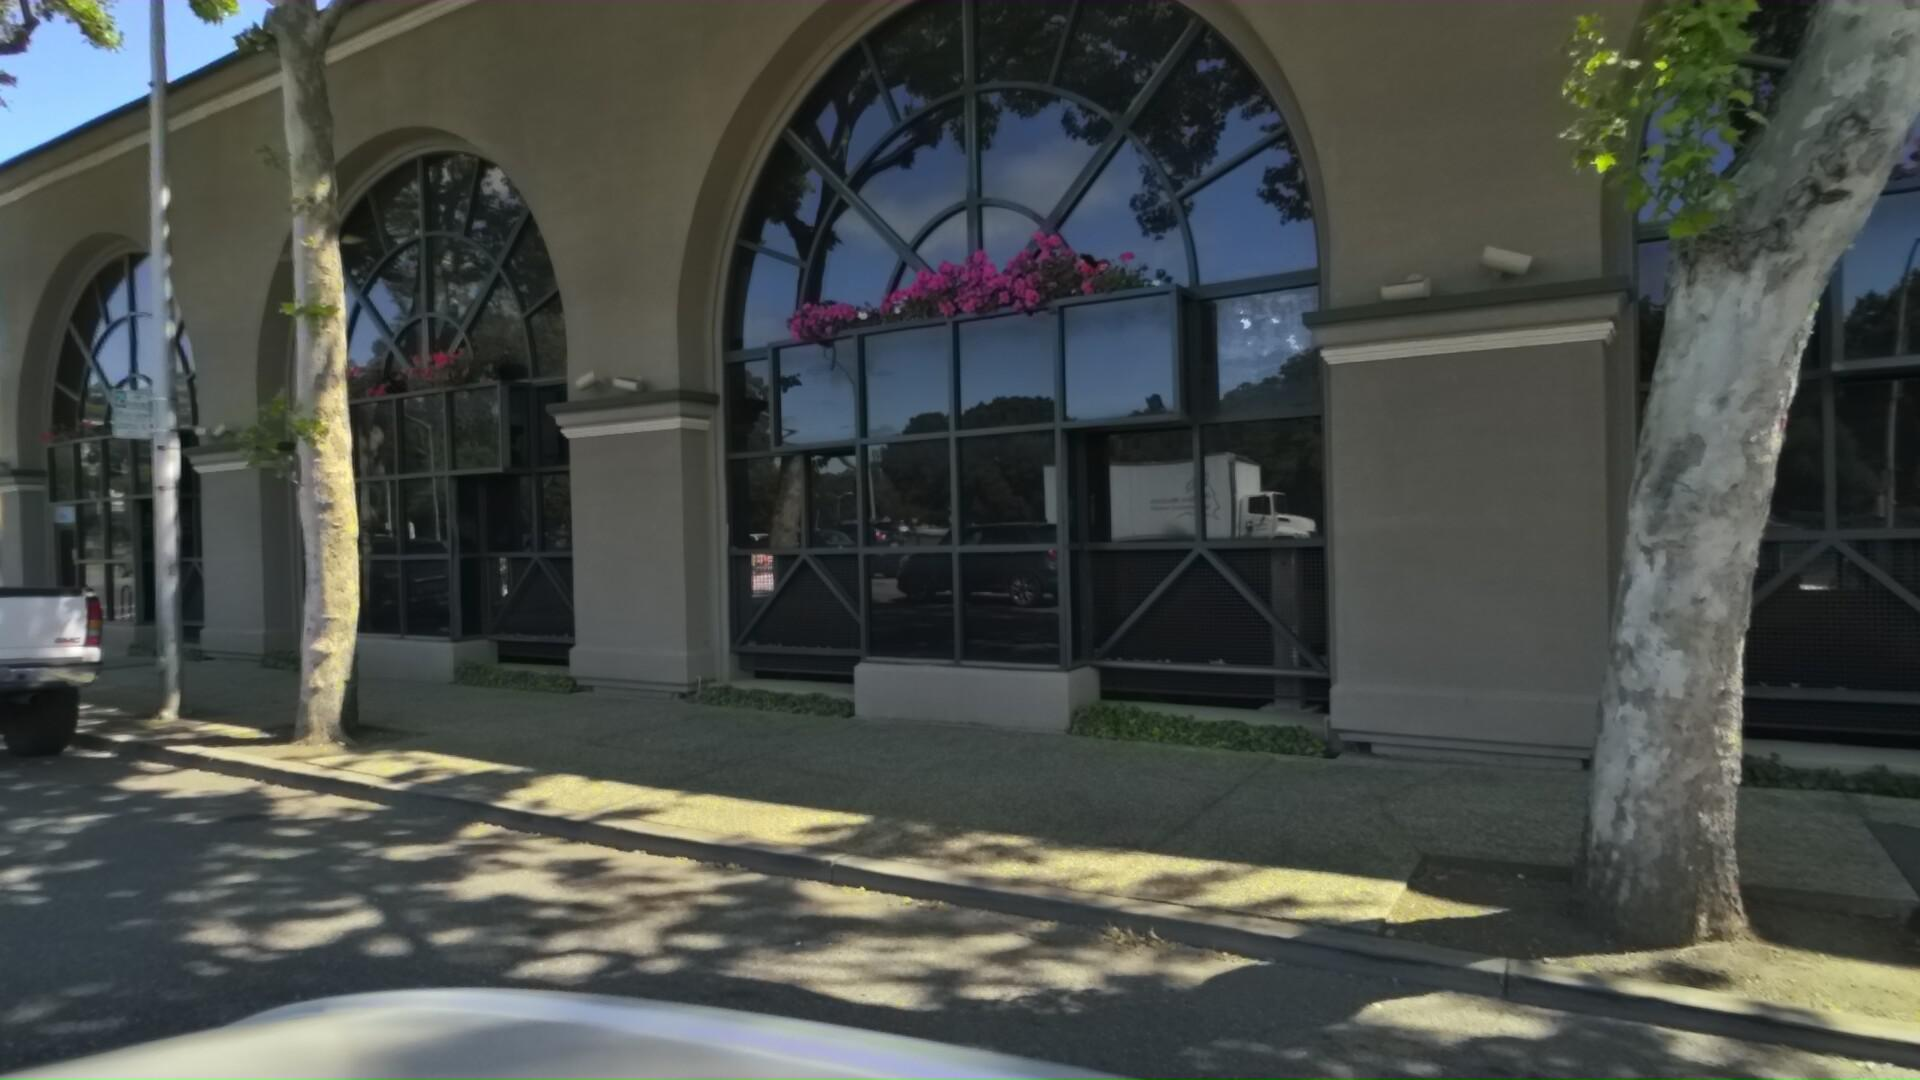car: (0, 498, 148, 829)
